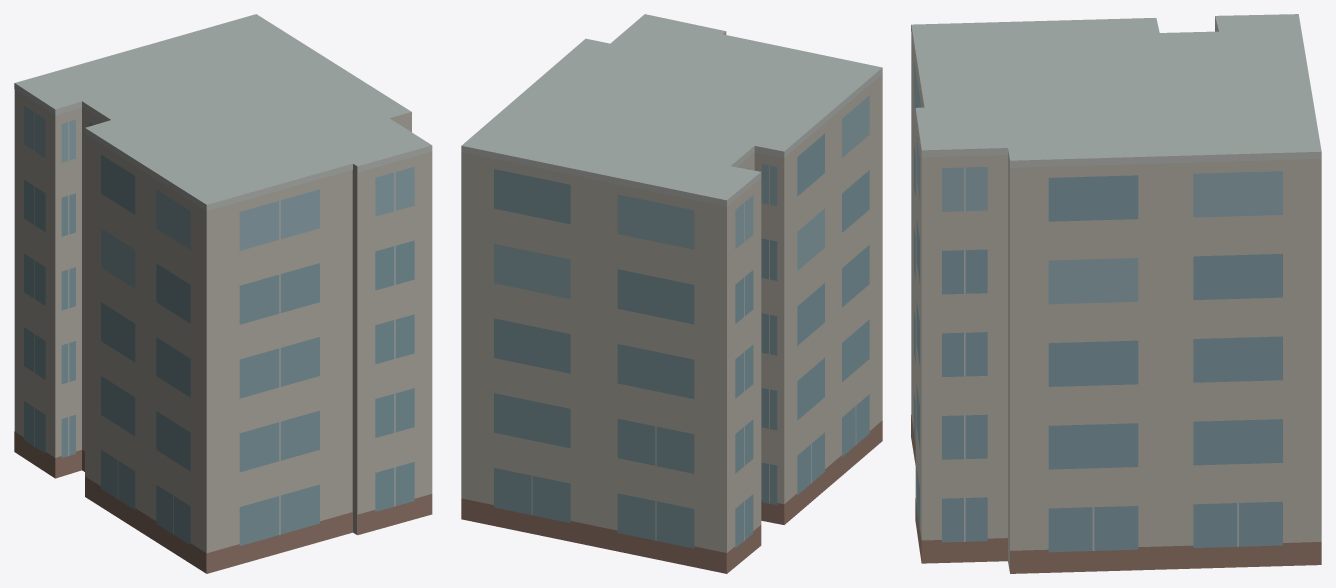
File: survey-upis-32831924.glb
3 renders of one model, left to right at view 1: azimuth 30°, elevation 25°; view 2: azimuth 150°, elevation 25°; view 3: azimuth 270°, elevation 25°, orthographic. The views are drawn at different scales.
Parts seen in each view (by area): view 1: survey-upis-32831924.tmp; view 2: survey-upis-32831924.tmp; view 3: survey-upis-32831924.tmp.
Boxes of the visible parts, x1,y1,x2,y2 form: survey-upis-32831924.tmp: [14, 14, 432, 573]; survey-upis-32831924.tmp: [461, 14, 882, 573]; survey-upis-32831924.tmp: [911, 14, 1321, 573].
Size of the model in its own units: 10.97 by 14.4 by 12.97.
